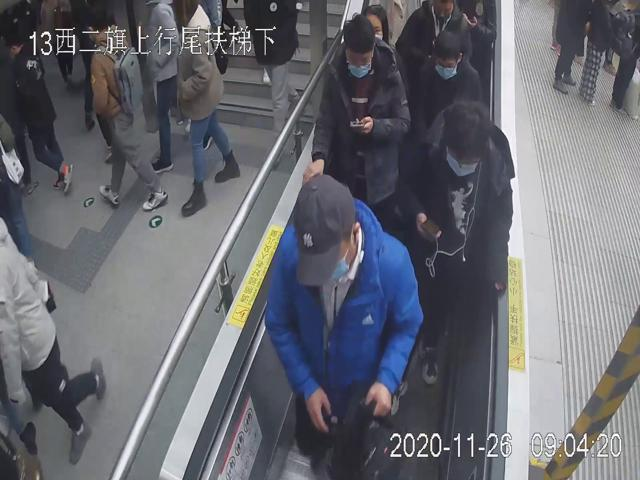person: (262, 172, 427, 471), (395, 97, 516, 388), (313, 12, 406, 227), (83, 2, 169, 211), (172, 0, 241, 216), (411, 27, 483, 131)
